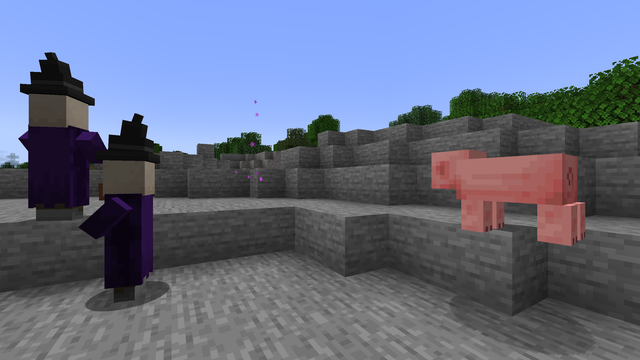cochons: (453, 150, 577, 245)
sorcieres: (23, 85, 90, 224), (98, 153, 156, 307)
